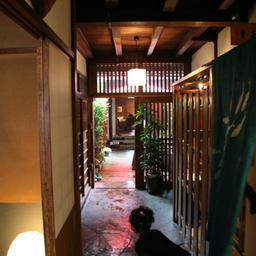Matera: (142, 113, 167, 198)
